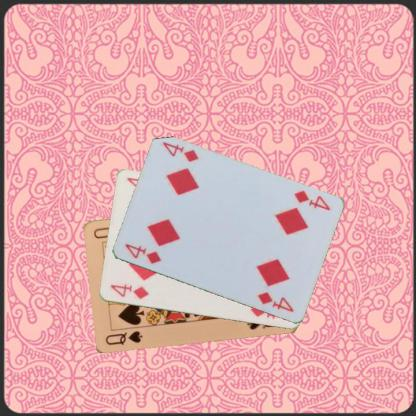4d: (122, 241, 162, 266), (291, 188, 331, 212), (107, 282, 150, 300)
Qs: (102, 328, 144, 346)
